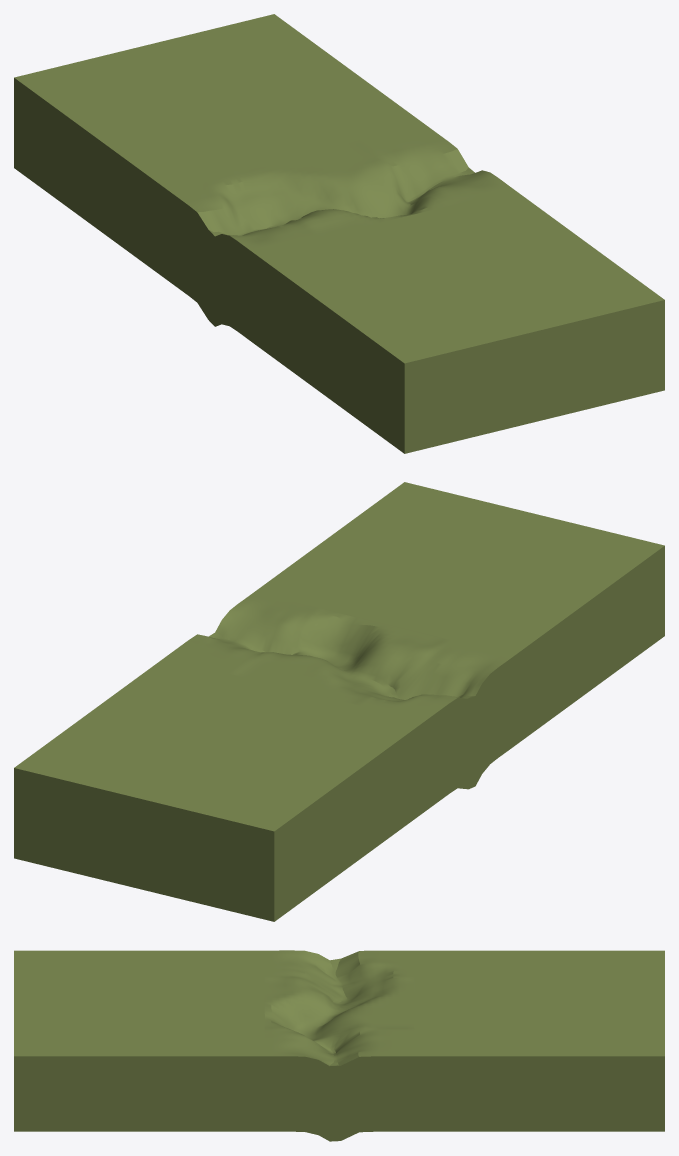
File: Tole_4.fbx
The picture shows the model from 3 angles, top to bottom: view 1: azimuth 30°, elevation 25°; view 2: azimuth 150°, elevation 25°; view 3: azimuth 270°, elevation 25°; orthographic projection. The views are drawn at different scales.
Parts seen in each view (by area): view 1: Tile 4.002; view 2: Tile 4.002; view 3: Tile 4.002.
Boxes of the visible parts, x1,y1,x2,y2 form: Tile 4.002: (14,14,664,453); Tile 4.002: (14,482,664,921); Tile 4.002: (14,950,664,1141).
Bounding box in the file's own units: 5000 × 1900 × 12991.
